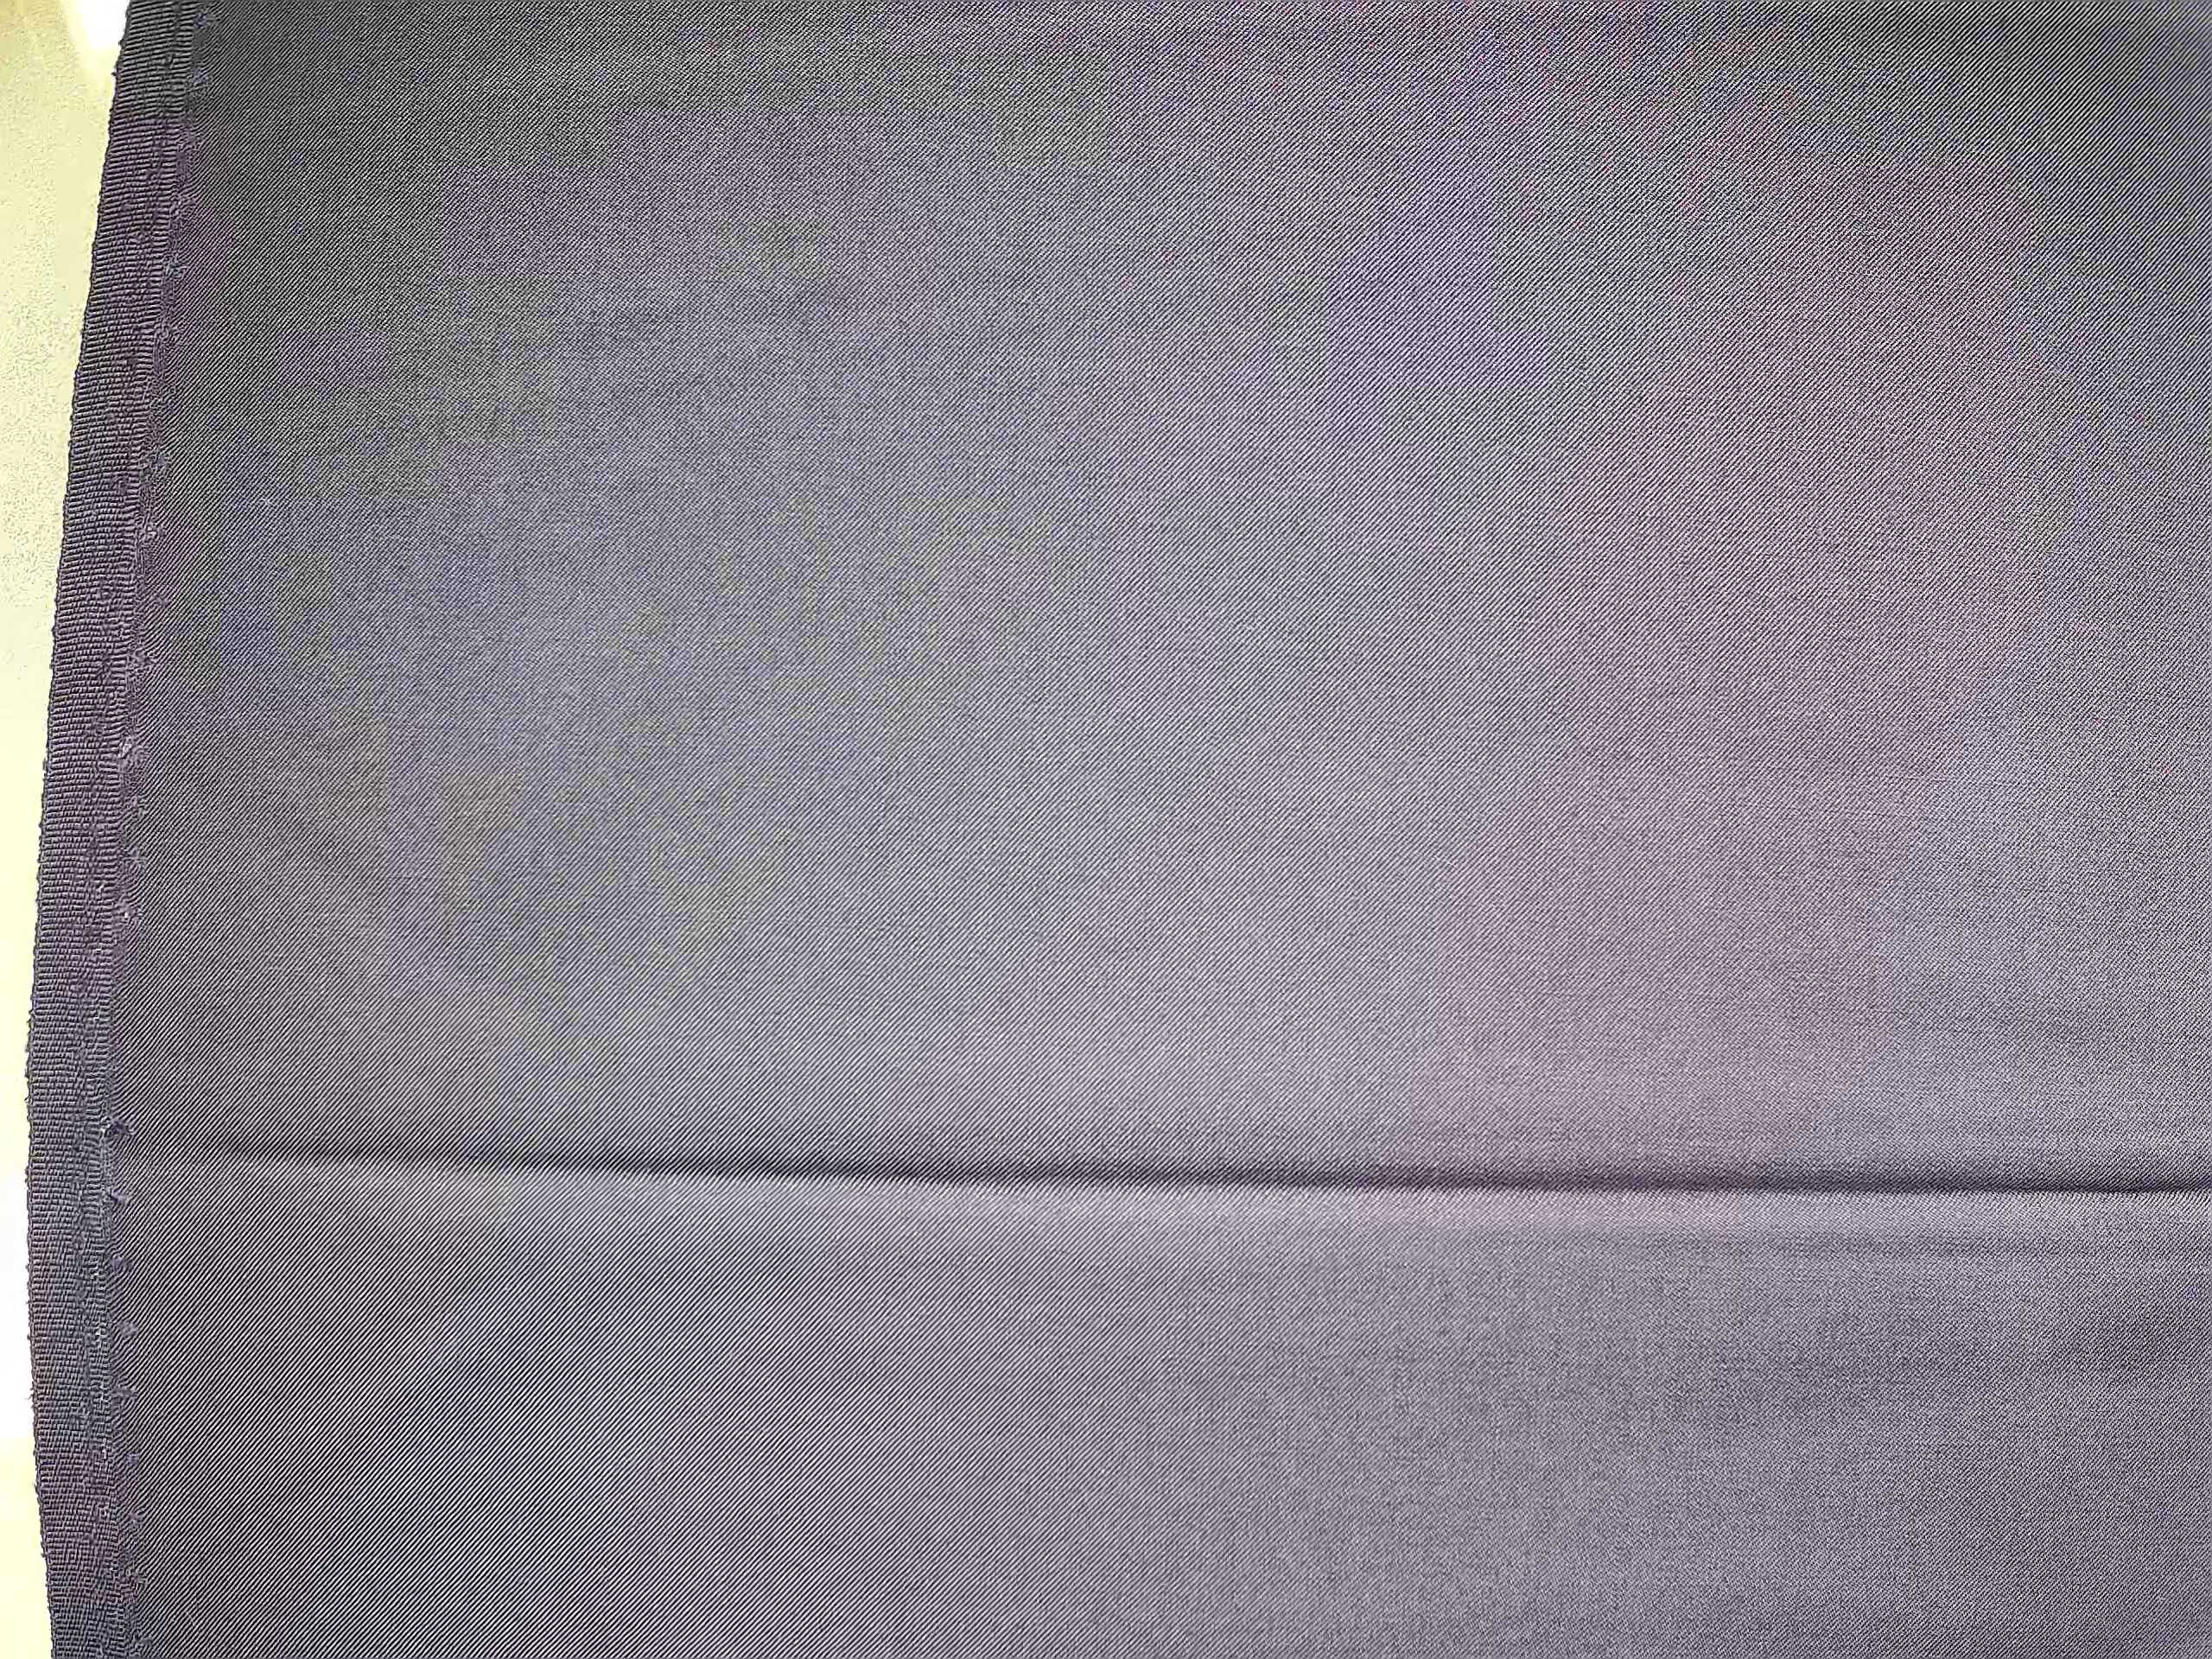puncture-hole: (91, 7, 223, 1645)
